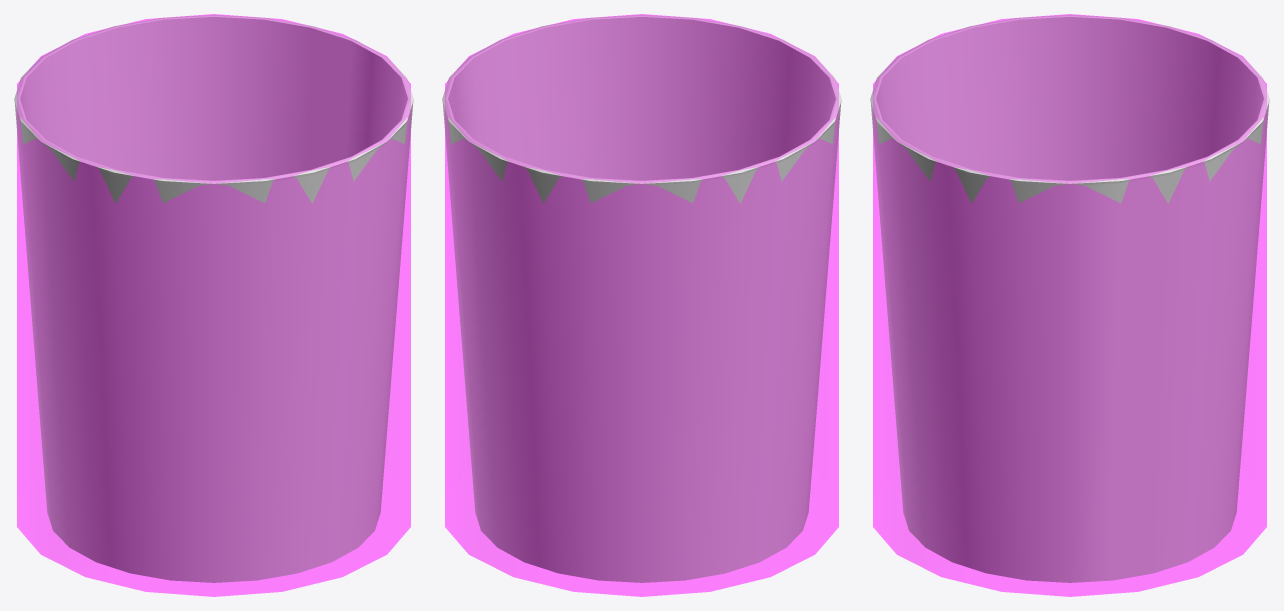
File: trashbox.fbx
3 renders of one model, left to right at view 1: azimuth 30°, elevation 25°; view 2: azimuth 150°, elevation 25°; view 3: azimuth 270°, elevation 25°, orthographic.
Visible parts, largest first — view 1: boundingbox, trashbox; view 2: boundingbox, trashbox; view 3: boundingbox, trashbox.
Boxes of the visible parts, x1=… form: boundingbox: x1=17, y1=14, x2=410, y2=596; trashbox: x1=14, y1=15, x2=413, y2=582; boundingbox: x1=445, y1=14, x2=838, y2=596; trashbox: x1=442, y1=15, x2=841, y2=582; boundingbox: x1=873, y1=14, x2=1266, y2=596; trashbox: x1=870, y1=15, x2=1269, y2=582.
Size of the model in its own units: 19.19 by 21.92 by 19.19.
